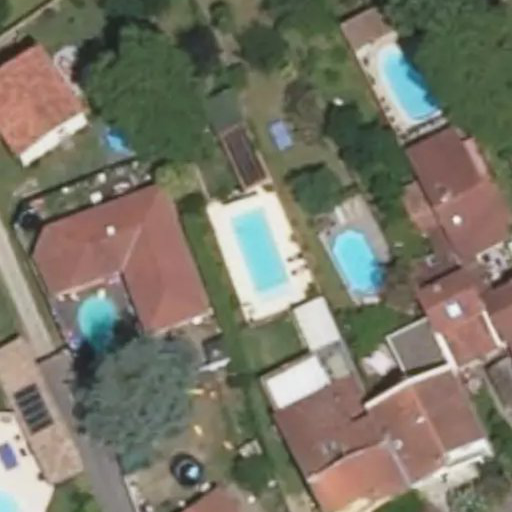pool: (223, 209, 287, 274)
